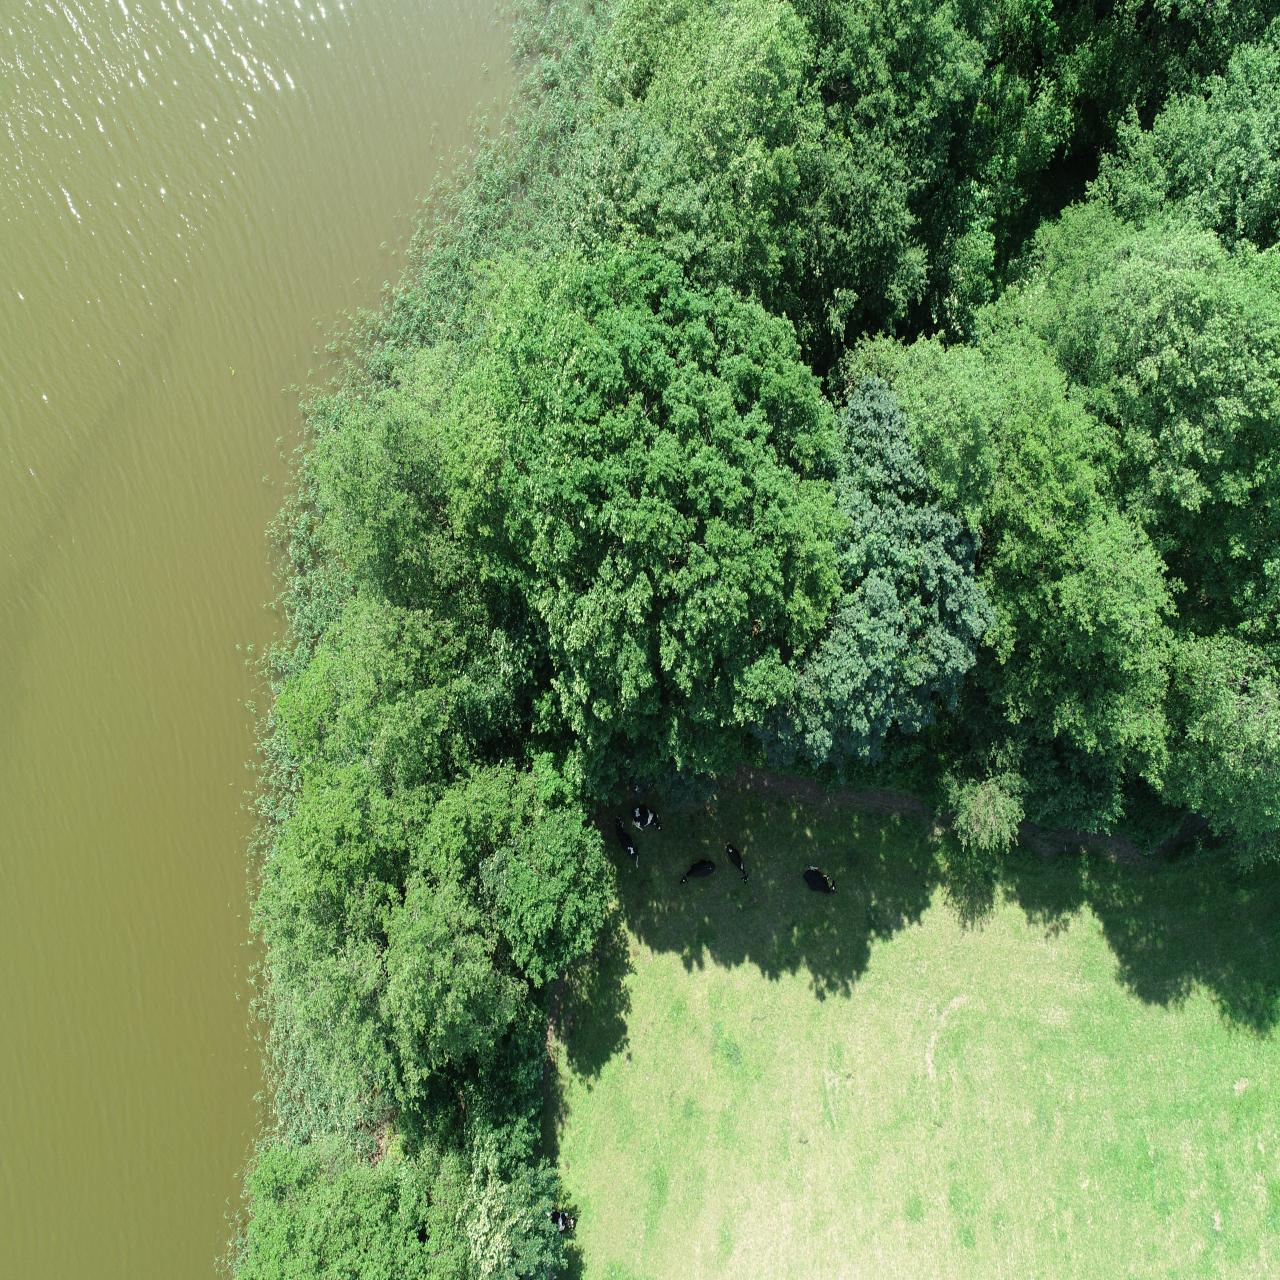cow: (723, 839, 751, 886), (679, 857, 716, 888), (802, 862, 836, 896), (629, 803, 662, 838)
